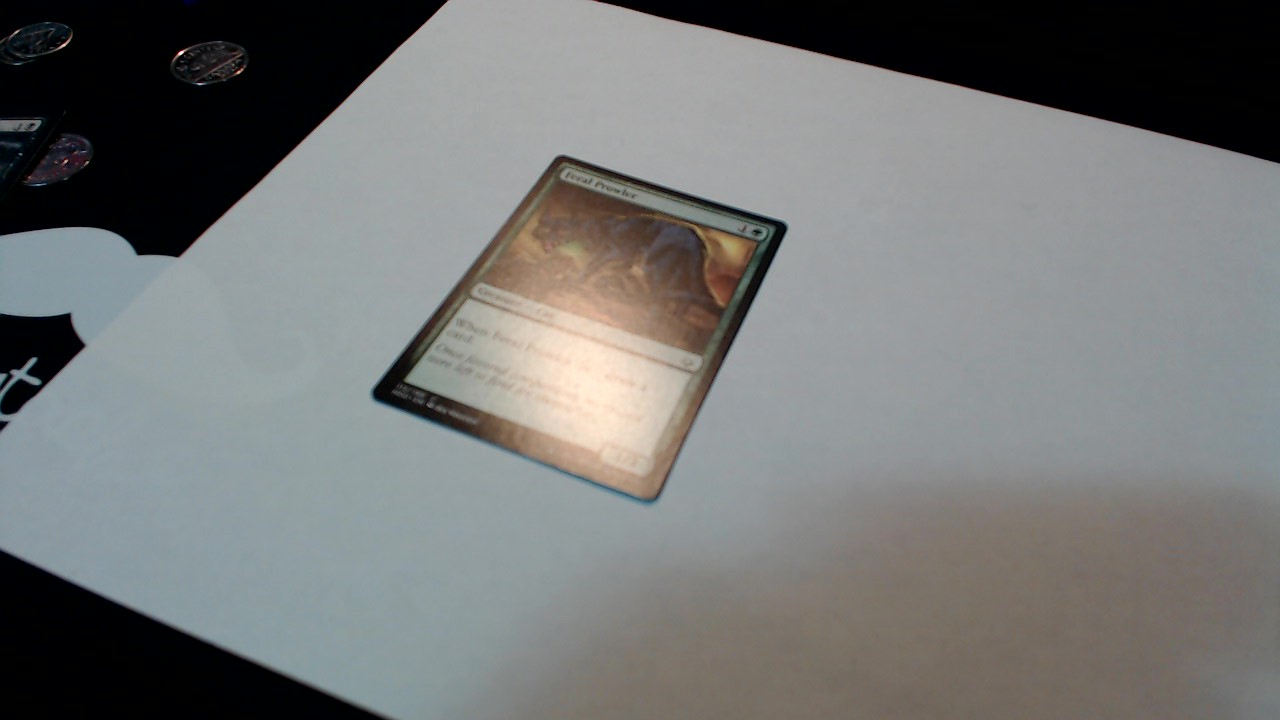MTG Card: (362, 136, 799, 513)
